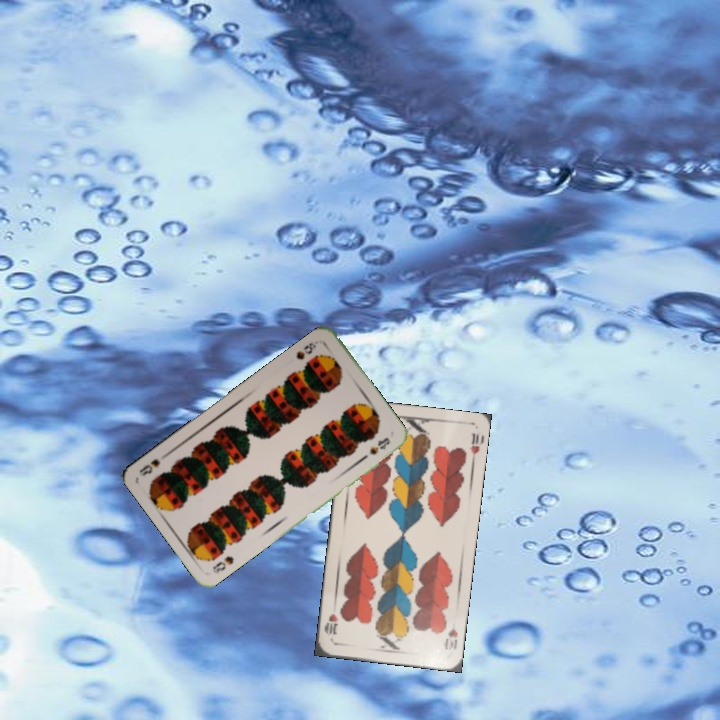H10: (440, 619, 461, 652)
S8: (292, 337, 321, 363), (208, 551, 236, 577)
